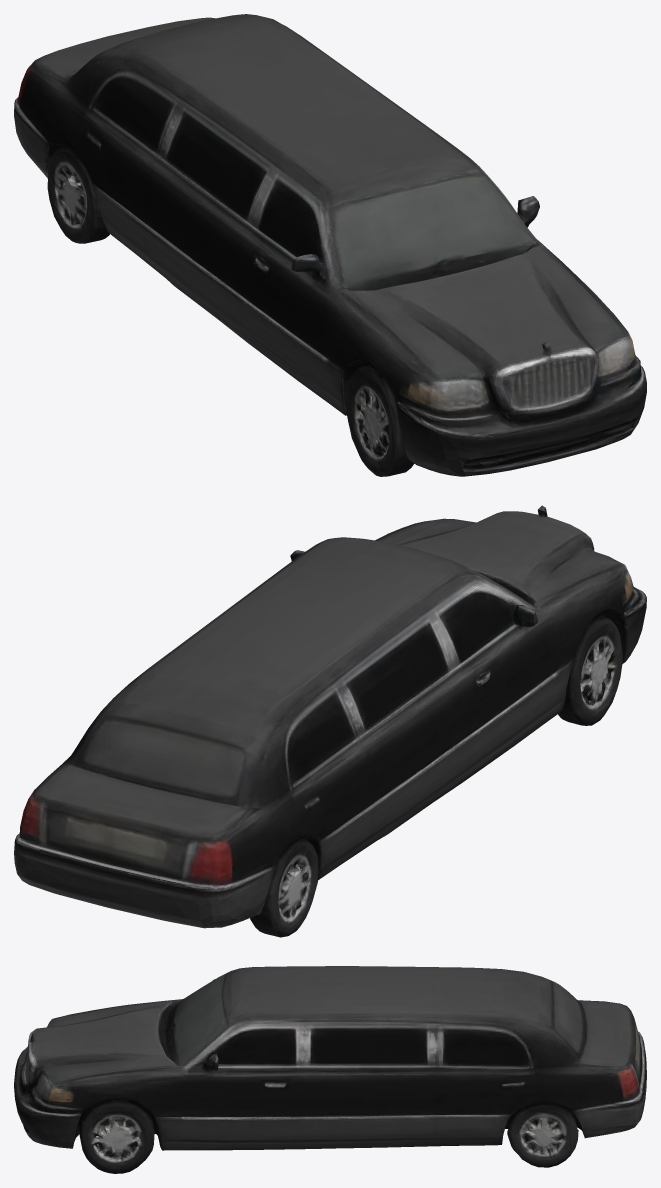
Rendered from 993f215e-4454-4aba-8cfd-8de871f3a197.glb.
The picture shows the model from 3 angles, top to bottom: view 1: azimuth 30°, elevation 25°; view 2: azimuth 150°, elevation 25°; view 3: azimuth 270°, elevation 25°; orthographic projection. The views are drawn at different scales.
Parts seen in each view (by area): view 1: geometry_0; view 2: geometry_0; view 3: geometry_0.
Part boxes in pixels (x1,y1,x2,y2): geometry_0: (14, 14, 646, 476); geometry_0: (14, 505, 646, 937); geometry_0: (14, 966, 646, 1173).
Bounding box in the file's own units: 0.316 × 0.2646 × 0.9993.
1 material, 1 textured.
